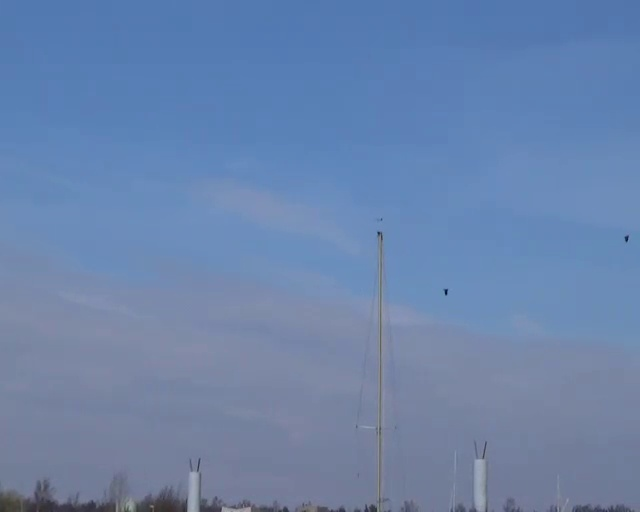BIRD: (624, 234, 630, 241)
